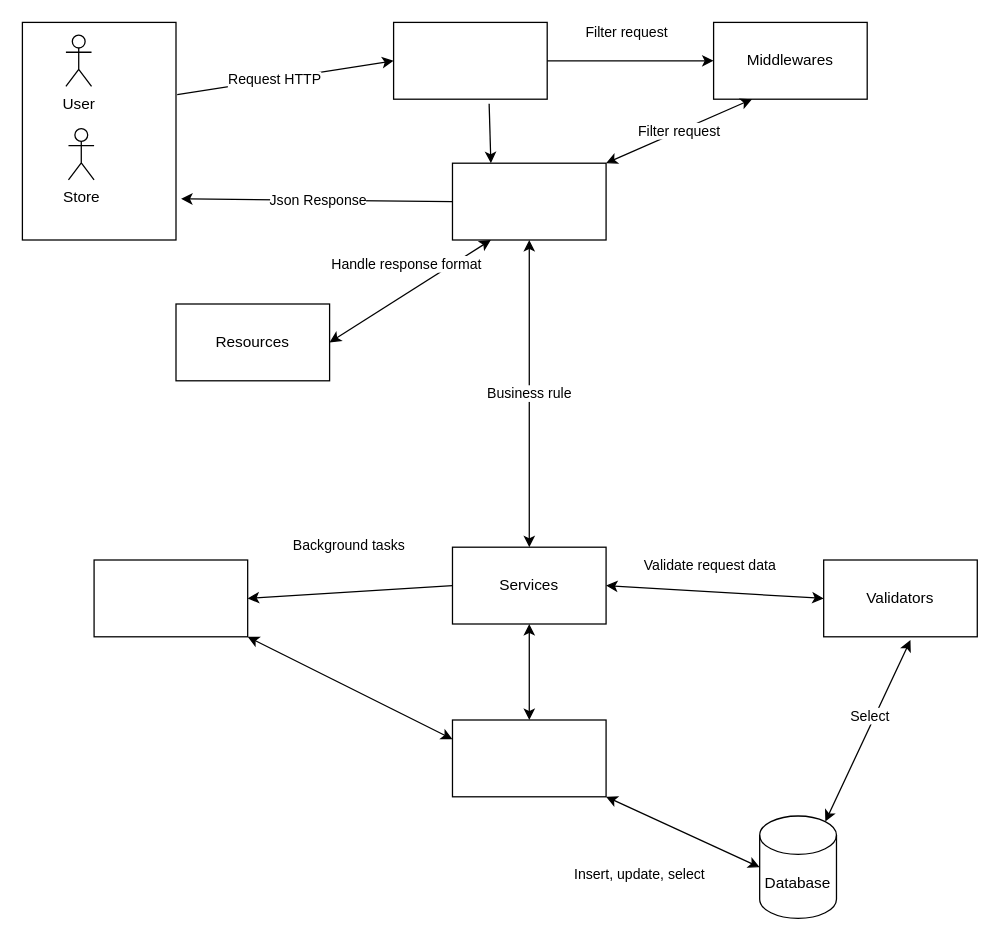
Image size: 1000x941. Some labels were removed from this diagram. Here are the shapes that lost their labels. From the top down, the box of each, then its label:
(392, 21, 547, 99): Routes
(451, 162, 606, 240): Controllers
(93, 559, 248, 637): Jobs
(451, 719, 606, 797): Models
